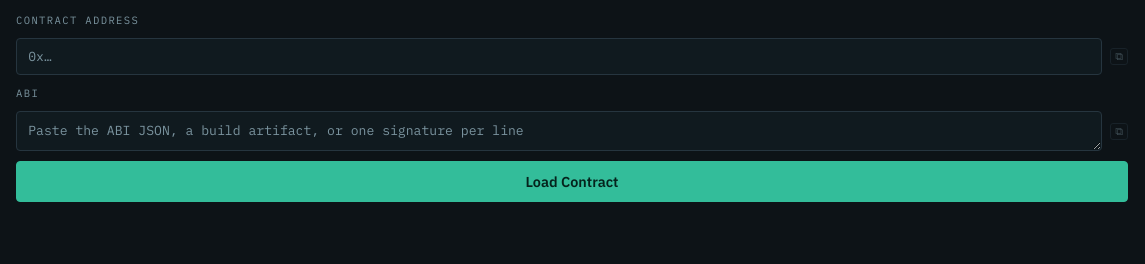
Test: an invalid address is reported and nothing is loaded
Type "0xF3001f12" into the field labelled "Contract address". click: (559, 57)
box: left=16, top=38, right=1102, bottom=75
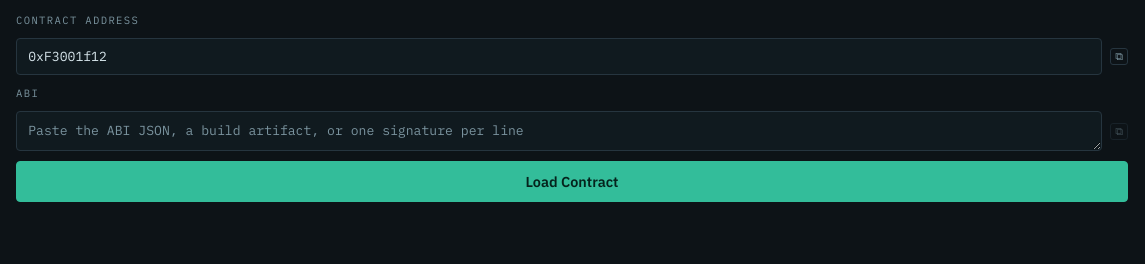
Replace the text in the text box labelled "ABI" with "[]". click: (559, 131)
box: left=16, top=111, right=1102, bottom=151
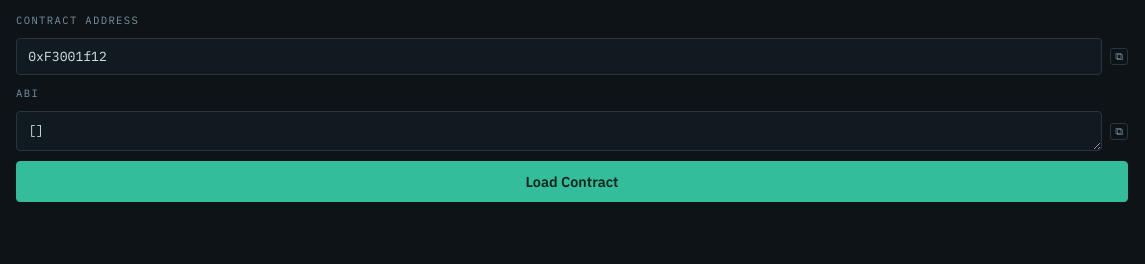
Click the button "Load Contract". click: (572, 182)
box: left=16, top=161, right=1128, bottom=202
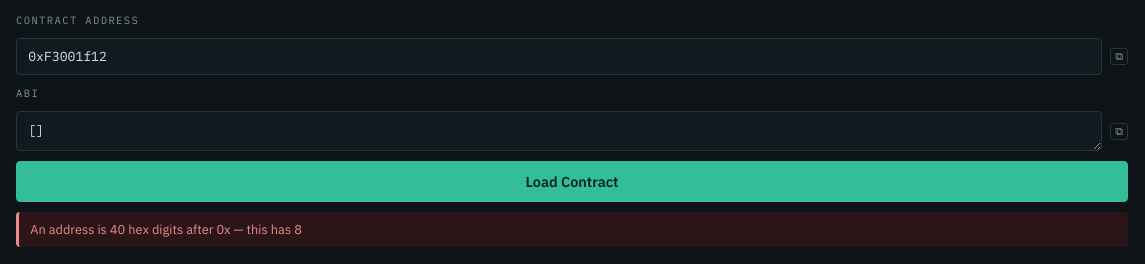
Result: the text "An address is 40 hex digits after 0x — this has 8" is shown at left=16, top=212, right=1128, bottom=247
